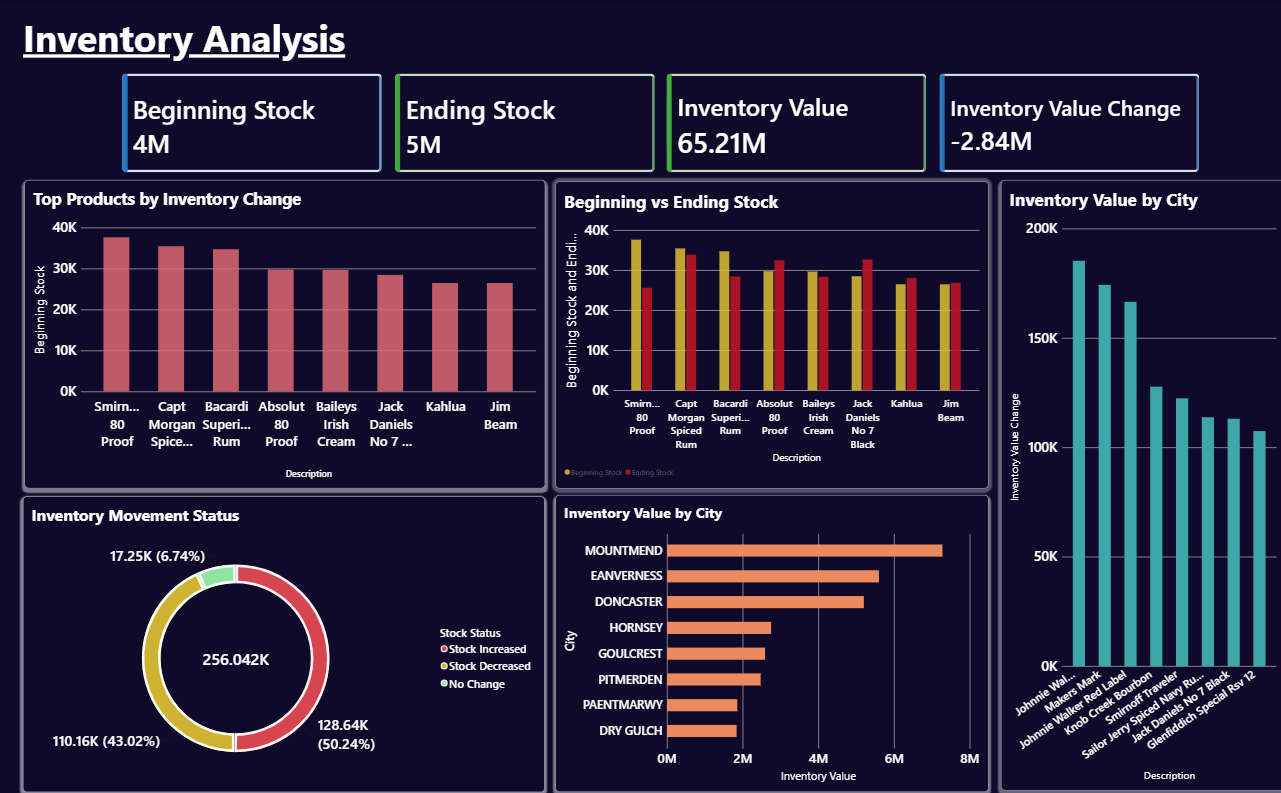

This screenshot's page, from the dashboard's own definition file:
{"tool":"powerbi","page":{"name":"Inventory analysis","canvas":[2500,1550],"ordinal":2},"visuals":[{"type":"cardVisual","fields":{"Data":["inventory_analysis.Inventory Value"]},"box":[1296,144,504,192],"z":0},{"type":"cardVisual","fields":{"Data":["inventory_analysis.Inventory Value Change"]},"box":[1824,144,504,192],"z":1000},{"type":"clusteredColumnChart","title":"Top Products by Inventory Change","fields":{"Category":["inventory_analysis.Description"],"Y":["inventory_analysis.Beginning Stock"]},"box":[50,350,1010,598],"z":2000},{"type":"clusteredColumnChart","title":"Beginning vs Ending Stock","fields":{"Category":["inventory_analysis.Description"],"Y":["inventory_analysis.Beginning Stock","inventory_analysis.Ending Stock"]},"box":[1080,352,840,595],"z":3000},{"type":"clusteredColumnChart","title":"Inventory Value by City","fields":{"Category":["inventory_analysis.Description"],"Y":["inventory_analysis.Inventory Value Change"]},"box":[1944,350,552,1184],"z":4000},{"type":"donutChart","title":"Inventory Movement Status","fields":{"Category":["inventory_analysis.Stock Status"],"Y":["CountNonNull(inventory_analysis.InventoryId)"]},"box":[48,964,1012,573],"z":5000},{"type":"barChart","title":"Inventory Value by City","fields":{"Category":["inventory_analysis.City"],"Y":["inventory_analysis.Inventory Value"]},"box":[1080,960,840,576],"z":6000},{"type":"cardVisual","fields":{"Data":["inventory_analysis.Beginning Stock"]},"box":[240,144,504,192],"z":7000},{"type":"cardVisual","fields":{"Data":["inventory_analysis.Ending Stock"]},"box":[768,144,504,192],"z":8000},{"type":"textbox","box":[48,24,2448,96],"z":9000}]}

Visuals, with their boxes in screenshot pixels (x1, y1, x2, y2), scaled from the page's 2500x1550 canvas onto the 1281x793 screenshot:
cardVisual - inventory_analysis.Inventory Value: Rect(664, 74, 922, 172)
cardVisual - inventory_analysis.Inventory Value Change: Rect(935, 74, 1193, 172)
"Top Products by Inventory Change" clusteredColumnChart: Rect(26, 179, 543, 485)
"Beginning vs Ending Stock" clusteredColumnChart: Rect(553, 180, 984, 484)
"Inventory Value by City" clusteredColumnChart: Rect(996, 179, 1279, 785)
"Inventory Movement Status" donutChart: Rect(25, 493, 543, 786)
"Inventory Value by City" barChart: Rect(553, 491, 984, 786)
cardVisual - inventory_analysis.Beginning Stock: Rect(123, 74, 381, 172)
cardVisual - inventory_analysis.Ending Stock: Rect(394, 74, 652, 172)
textbox: Rect(25, 12, 1279, 61)
